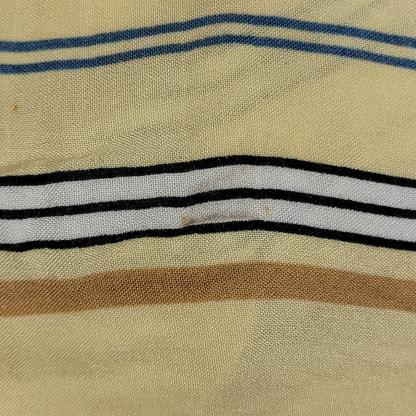spot: (7, 98, 29, 115), (257, 199, 272, 218), (176, 208, 190, 228)
